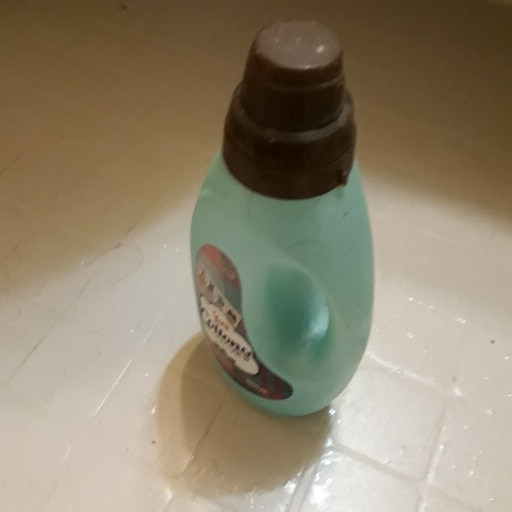Plastic_1: (187, 18, 377, 416)
